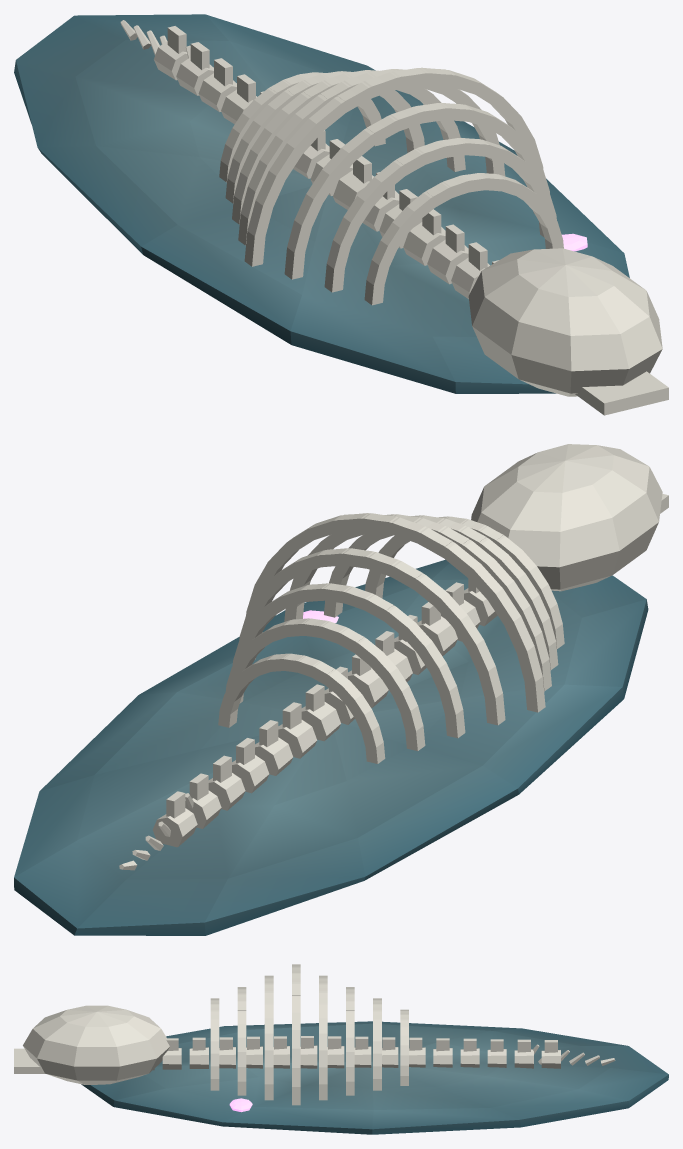
Rendered from prop_whale_fall.glb.
3 views of the same model, one above another, from view 1: azimuth 30°, elevation 25°; view 2: azimuth 150°, elevation 25°; view 3: azimuth 270°, elevation 25° (orthographic). The views are drawn at different scales.
Visible parts, largest first — view 1: prop_whale_fall_stone, prop_whale_fall_bone; view 2: prop_whale_fall_stone, prop_whale_fall_bone; view 3: prop_whale_fall_stone, prop_whale_fall_bone.
Part boxes in pixels (box(x1,y1,x2,y2)): prop_whale_fall_stone: box(14, 14, 629, 393); prop_whale_fall_bone: box(120, 20, 668, 415); prop_whale_fall_stone: box(14, 559, 648, 935); prop_whale_fall_bone: box(119, 444, 668, 870); prop_whale_fall_stone: box(81, 1021, 668, 1134); prop_whale_fall_bone: box(14, 964, 615, 1105).
Size of the model in its own units: 5.87 by 3 by 14.99.
